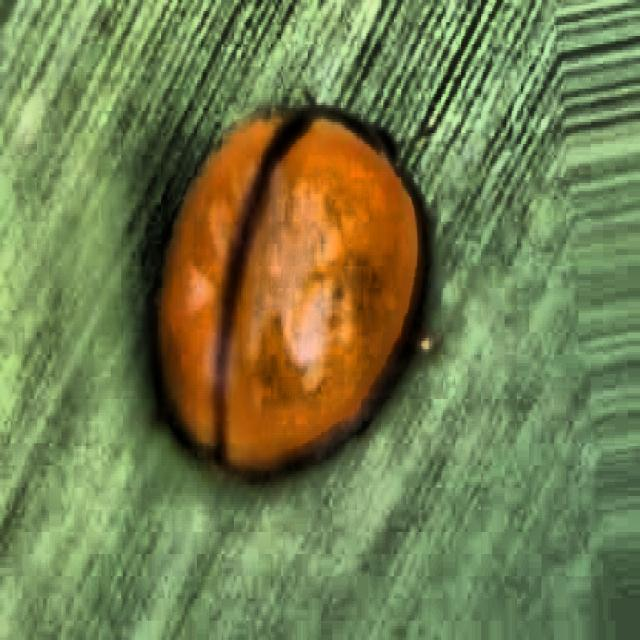Ladybug: (78, 19, 496, 533)
